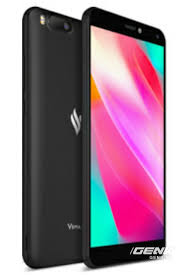vsmart: (20, 3, 170, 271)
